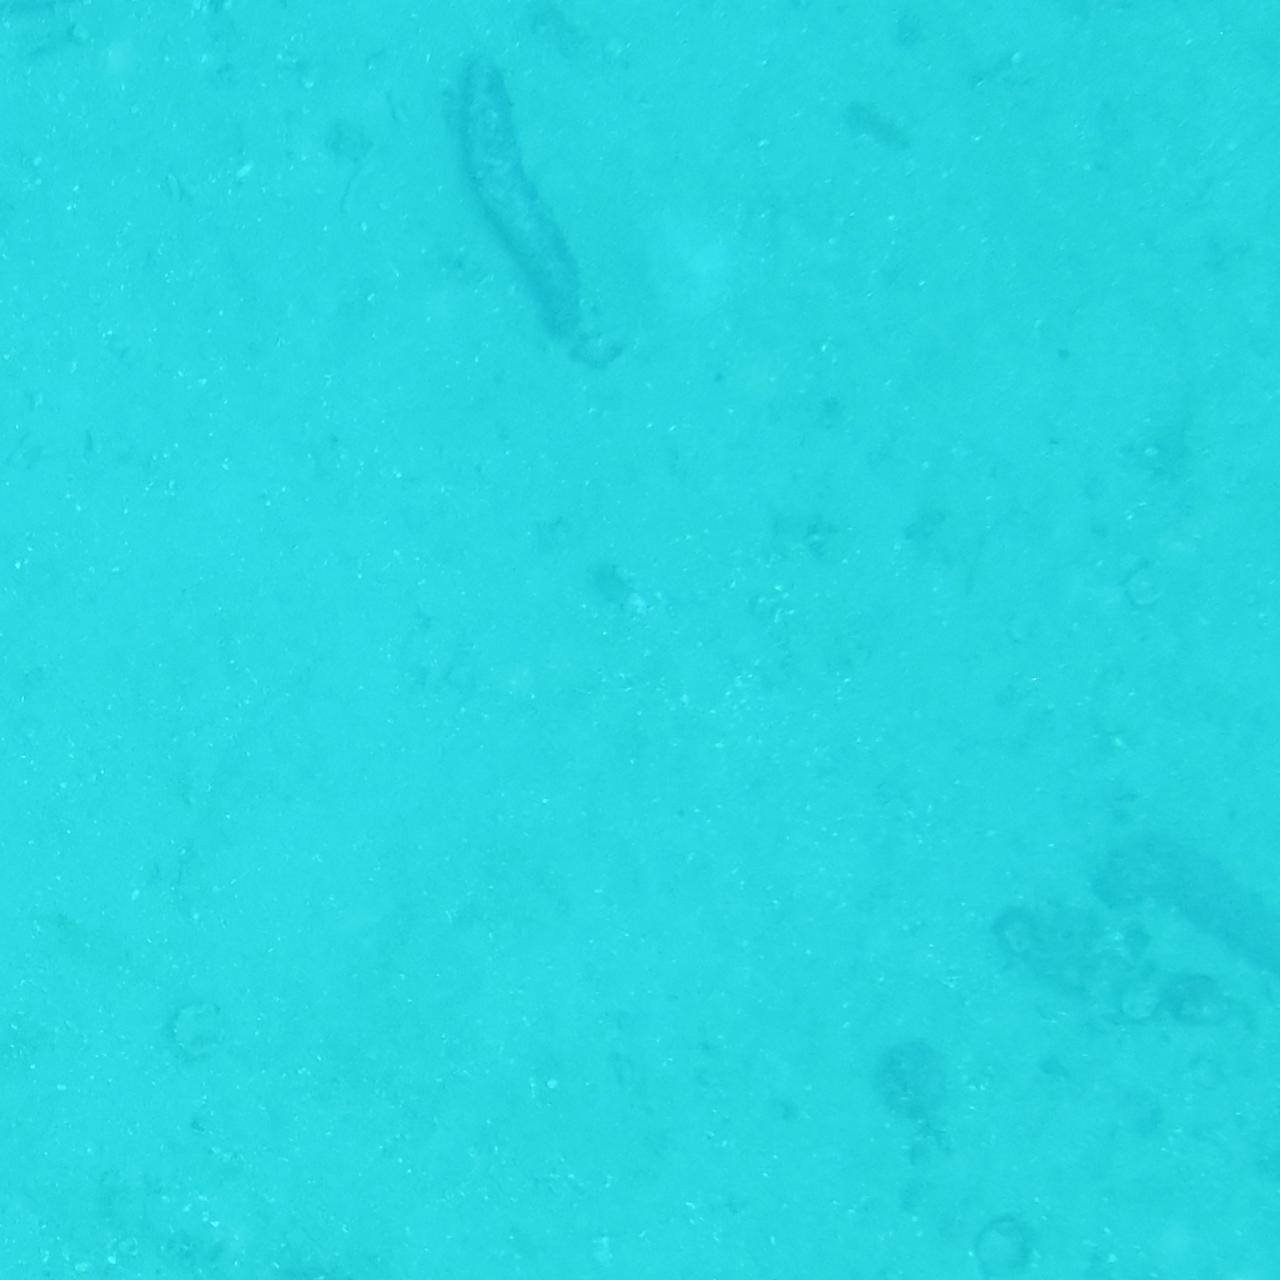Holothuria tubulosa: (449, 54, 619, 343), (1094, 815, 1280, 1009), (0, 0, 319, 74), (0, 0, 172, 105), (830, 1223, 1080, 1280)
